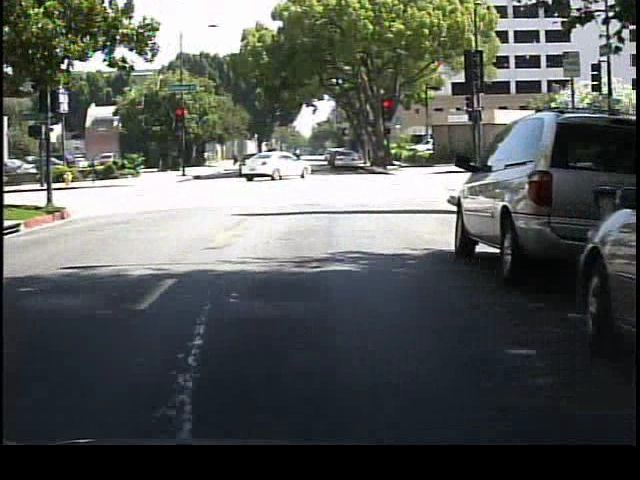person: (290, 142, 307, 176)
